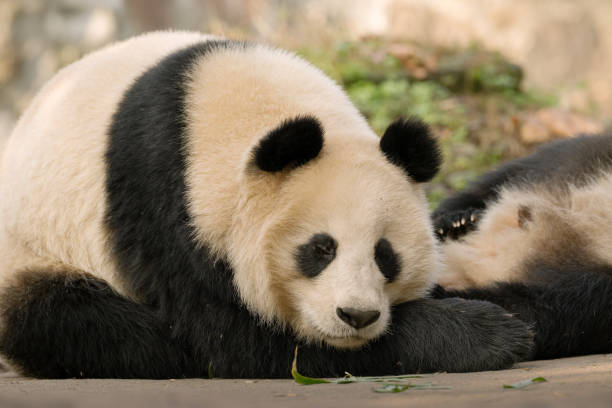panda: (225, 105, 449, 366)
